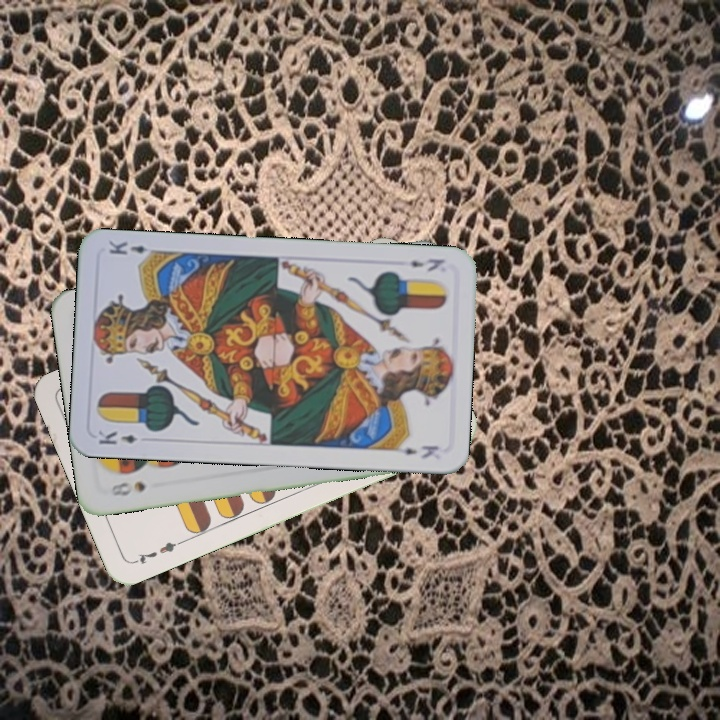E7: (129, 536, 186, 567)
EK: (94, 427, 140, 447), (406, 254, 447, 274)
S8: (107, 477, 148, 499)
